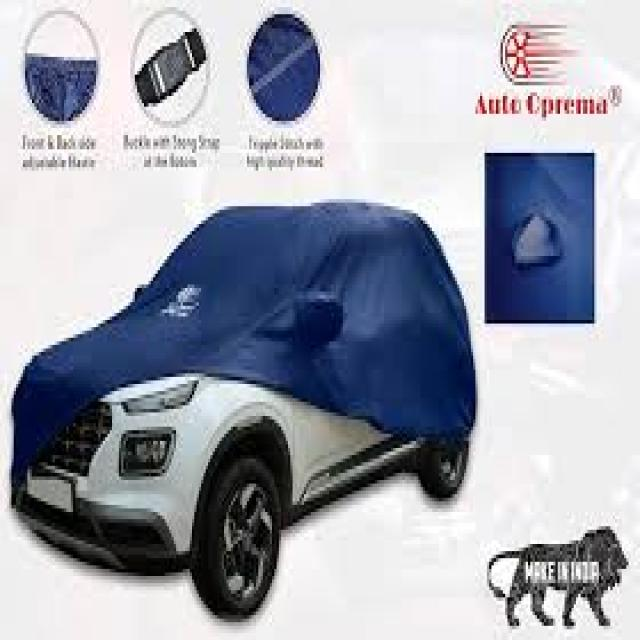light_vehicle: (10, 200, 477, 622)
